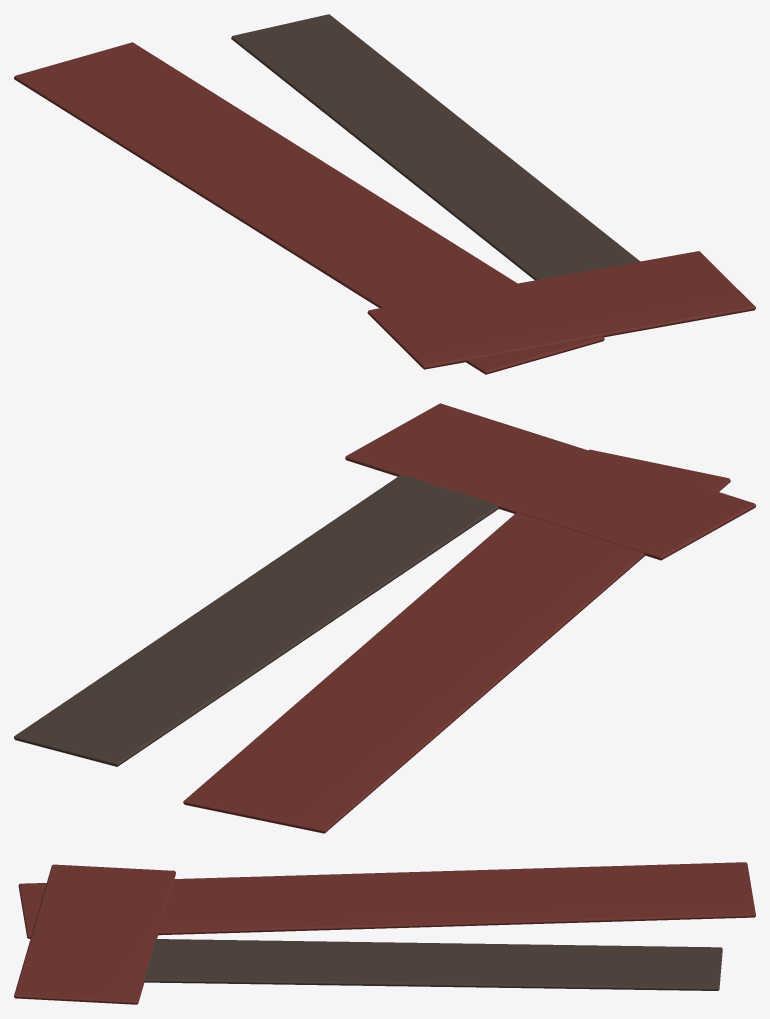
Rendered from prop_drag_mark_decal_01.glb.
3 views of the same model, one above another, from view 1: azimuth 30°, elevation 25°; view 2: azimuth 150°, elevation 25°; view 3: azimuth 270°, elevation 25° (orthographic). The views are drawn at different scales.
Parts seen in each view (by area): view 1: drag_mark_long_01.002, drag_mark_long_02.002, drag_mark_smear.002; view 2: drag_mark_long_01.002, drag_mark_long_02.002, drag_mark_smear.002; view 3: drag_mark_long_01.002, drag_mark_long_02.002, drag_mark_smear.002.
Part boxes in pixels (x1=…): drag_mark_long_01.002: x1=14, y1=42, x2=604, y2=374; drag_mark_long_02.002: x1=231, y1=14, x2=640, y2=280; drag_mark_smear.002: x1=367, y1=251, x2=755, y2=369; drag_mark_long_01.002: x1=183, y1=449, x2=730, y2=833; drag_mark_long_02.002: x1=14, y1=474, x2=498, y2=766; drag_mark_smear.002: x1=345, y1=403, x2=755, y2=560; drag_mark_long_01.002: x1=18, y1=862, x2=755, y2=938; drag_mark_long_02.002: x1=144, y1=939, x2=722, y2=990; drag_mark_smear.002: x1=14, y1=864, x2=175, y2=1004.
Bounding box in the file's own units: 0.4803 × 0.008 × 1.07.
